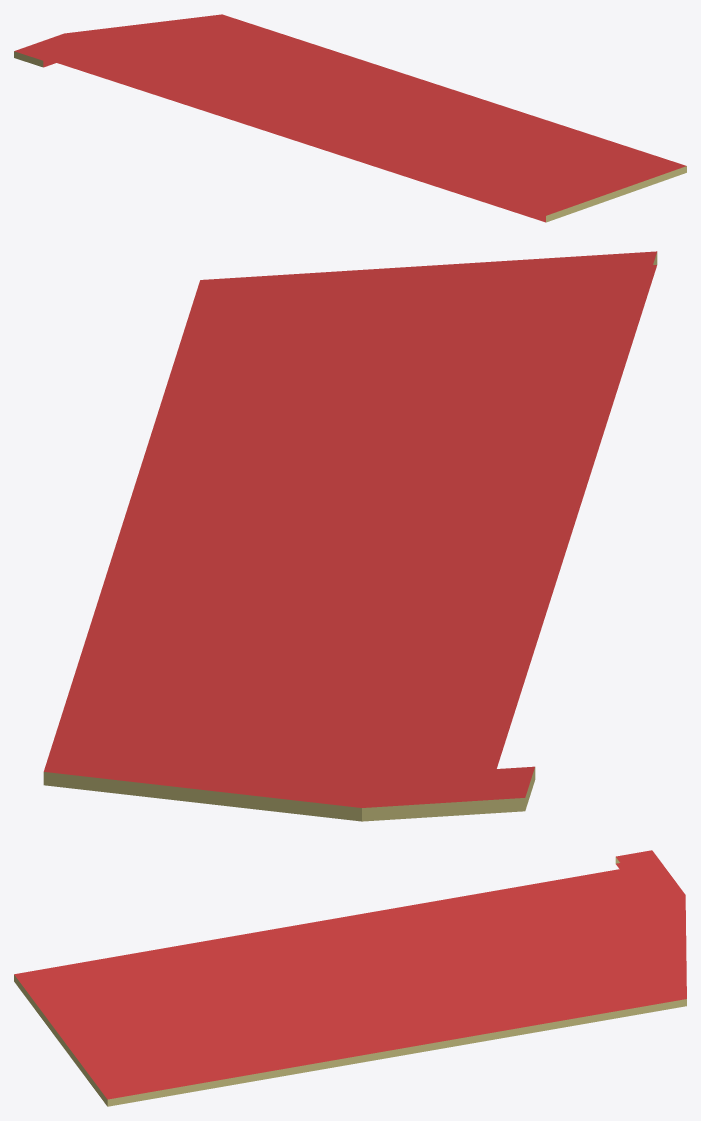
The picture shows the model from 3 angles, top to bottom: view 1: azimuth 30°, elevation 25°; view 2: azimuth 150°, elevation 25°; view 3: azimuth 270°, elevation 25°; orthographic projection. The views are drawn at different scales.
Bounding box in the file's own units: 6.49 × 8.48 × 0.543.
